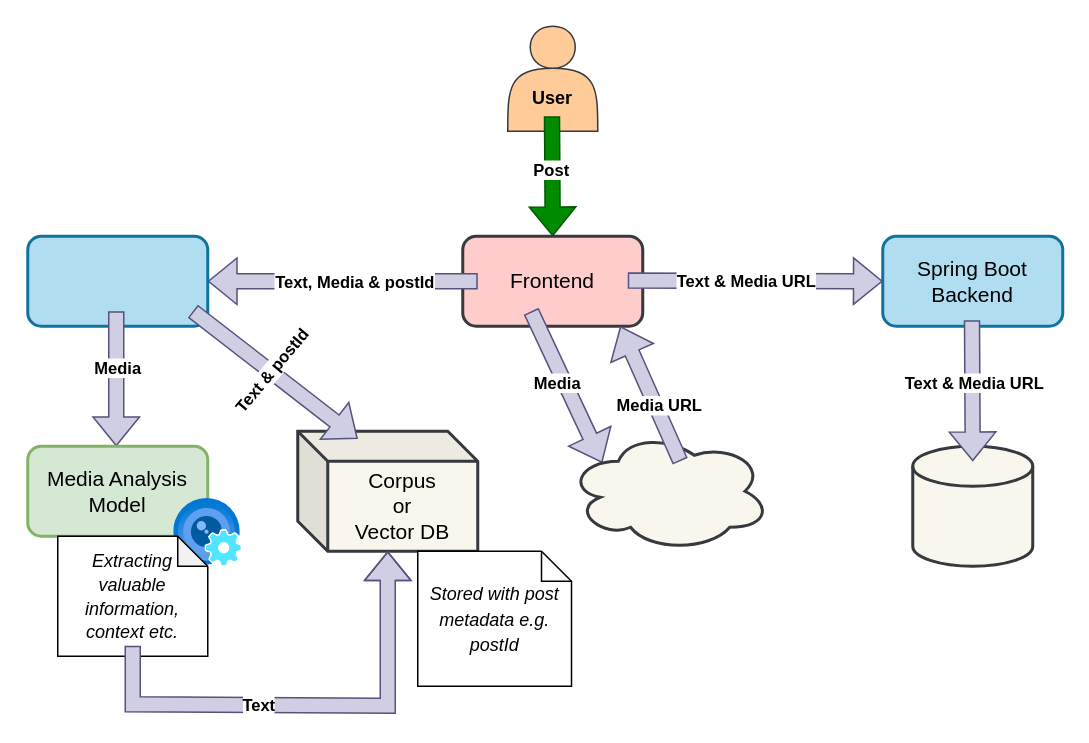
Image size: 1089x743. Some labels were removed from this diagram. The centre of each missing label's shape, as x and y in pixels:
AI Backend: point 117,280
Cloudinary: point 668,490
Postgresql DB: point 972,505
